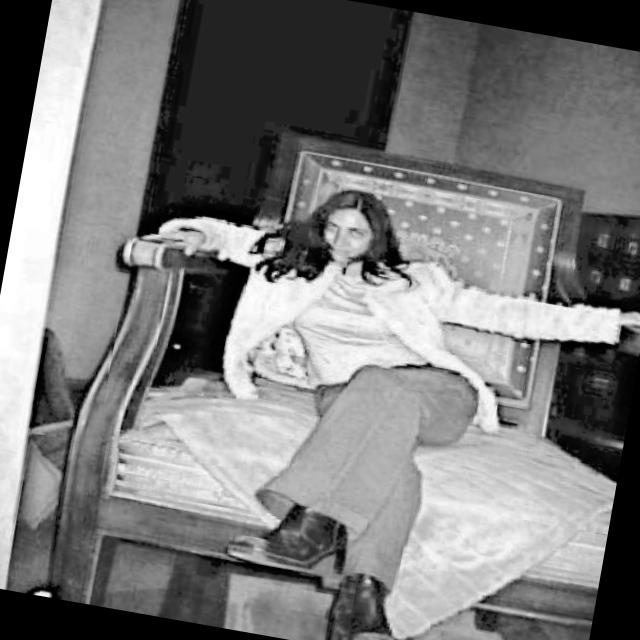Person: (179, 165, 536, 640)
